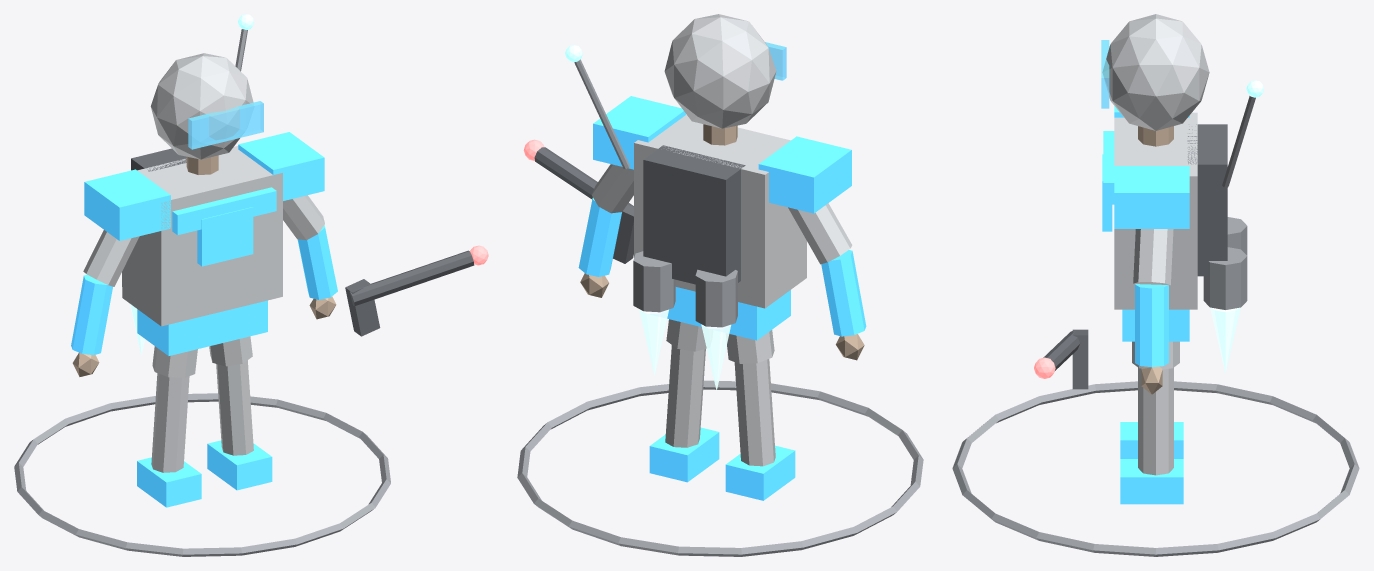
File: commander_solis.glb
The picture shows the model from 3 angles, left to right: view 1: azimuth 30°, elevation 25°; view 2: azimuth 150°, elevation 25°; view 3: azimuth 270°, elevation 25°; orthographic projection. The views are drawn at different scales.
Parts seen in each view (by area): view 1: solis_torso, solis_full_helmet_shell, orbital_tether_station_floor_ring, solis_left_shoulder_blue_armor, solis_pelvis, solis_right_shoulder_blue_armor, solis_left_lower_leg, solis_right_lower_leg, solis_resistance_chest_insignia_panel, solis_dark_helmet_visor, solis_left_forearm, solis_right_boot (+10 smaller); view 2: solis_torso, solis_zero_g_backpack_core, solis_full_helmet_shell, orbital_tether_station_floor_ring, solis_left_shoulder_blue_armor, solis_left_lower_leg, solis_right_shoulder_blue_armor, solis_right_lower_leg, solis_left_forearm, solis_pelvis, solis_left_boot, solis_right_boot (+15 smaller); view 3: solis_full_helmet_shell, orbital_tether_station_floor_ring, solis_torso, solis_right_shoulder_blue_armor, solis_zero_g_backpack_core, solis_right_lower_leg, solis_right_forearm, solis_right_boot, solis_zero_g_right_thruster_nozzle, solis_right_upper_arm, solis_pelvis, solis_zero_g_right_thruster_flame (+9 smaller).
Boxes of the visible parts, x1=… form: solis_torso: x1=122, y1=146, x2=282, y2=326; solis_full_helmet_shell: x1=150, y1=53, x2=253, y2=159; orbital_tether_station_floor_ring: x1=14, y1=393, x2=390, y2=556; solis_left_shoulder_blue_armor: x1=84, y1=169, x2=170, y2=240; solis_pelvis: x1=137, y1=300, x2=267, y2=355; solis_right_shoulder_blue_armor: x1=238, y1=132, x2=324, y2=200; solis_left_lower_leg: x1=151, y1=373, x2=189, y2=472; solis_right_lower_leg: x1=216, y1=360, x2=253, y2=455; solis_resistance_chest_insignia_panel: x1=197, y1=207, x2=253, y2=266; solis_dark_helmet_visor: x1=188, y1=101, x2=263, y2=149; solis_left_forearm: x1=71, y1=274, x2=112, y2=355; solis_right_boot: x1=207, y1=440, x2=272, y2=490; solis_torso: x1=634, y1=115, x2=806, y2=308; solis_zero_g_backpack_core: x1=643, y1=145, x2=745, y2=284; solis_full_helmet_shell: x1=664, y1=14, x2=776, y2=128; orbital_tether_station_floor_ring: x1=517, y1=380, x2=923, y2=556; solis_left_shoulder_blue_armor: x1=758, y1=136, x2=851, y2=213; solis_left_lower_leg: x1=734, y1=359, x2=775, y2=466; solis_right_shoulder_blue_armor: x1=593, y1=96, x2=686, y2=169; solis_right_lower_leg: x1=665, y1=345, x2=705, y2=447; solis_left_forearm: x1=821, y1=250, x2=866, y2=336; solis_pelvis: x1=667, y1=287, x2=790, y2=340; solis_left_boot: x1=725, y1=445, x2=795, y2=500; solis_right_boot: x1=649, y1=427, x2=719, y2=482; solis_full_helmet_shell: x1=1102, y1=14, x2=1209, y2=130; orbital_tether_station_floor_ring: x1=952, y1=381, x2=1359, y2=556; solis_torso: x1=1114, y1=112, x2=1197, y2=309; solis_right_shoulder_blue_armor: x1=1114, y1=166, x2=1189, y2=228; solis_zero_g_backpack_core: x1=1187, y1=124, x2=1227, y2=276; solis_right_lower_leg: x1=1138, y1=367, x2=1173, y2=475; solis_right_forearm: x1=1135, y1=284, x2=1168, y2=367; solis_right_boot: x1=1120, y1=459, x2=1183, y2=504; solis_zero_g_right_thruster_nozzle: x1=1203, y1=247, x2=1247, y2=309; solis_right_upper_arm: x1=1133, y1=229, x2=1173, y2=285; solis_pelvis: x1=1122, y1=309, x2=1189, y2=341; solis_zero_g_right_thruster_flame: x1=1210, y1=307, x2=1240, y2=373.
Bounding box in the file's own units: 2.48 × 2.54 × 2.05.
